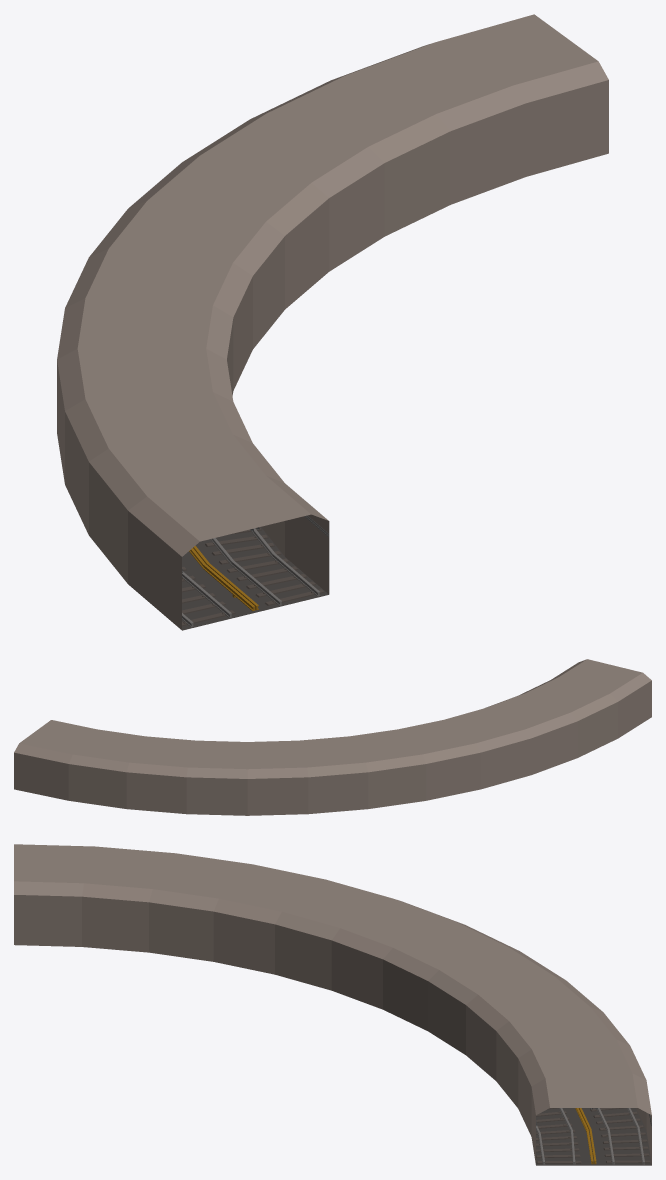
Rendered from SM_Train_Track_Underground_Double_Tunnel_Corner.fbx.
3 views of the same model, one above another, from view 1: azimuth 30°, elevation 25°; view 2: azimuth 150°, elevation 25°; view 3: azimuth 270°, elevation 25° (orthographic). The views are drawn at different scales.
Parts seen in each view (by area): view 1: SM_Train_Track_Underground_Double_Tunnel_Corner; view 2: SM_Train_Track_Underground_Double_Tunnel_Corner; view 3: SM_Train_Track_Underground_Double_Tunnel_Corner.
Part boxes in pixels (<box>): SM_Train_Track_Underground_Double_Tunnel_Corner: <box>57,14,608,630</box>; SM_Train_Track_Underground_Double_Tunnel_Corner: <box>14,659,651,815</box>; SM_Train_Track_Underground_Double_Tunnel_Corner: <box>14,844,651,1165</box>.
Size of the model in its own units: 3850 by 385 by 3850.
